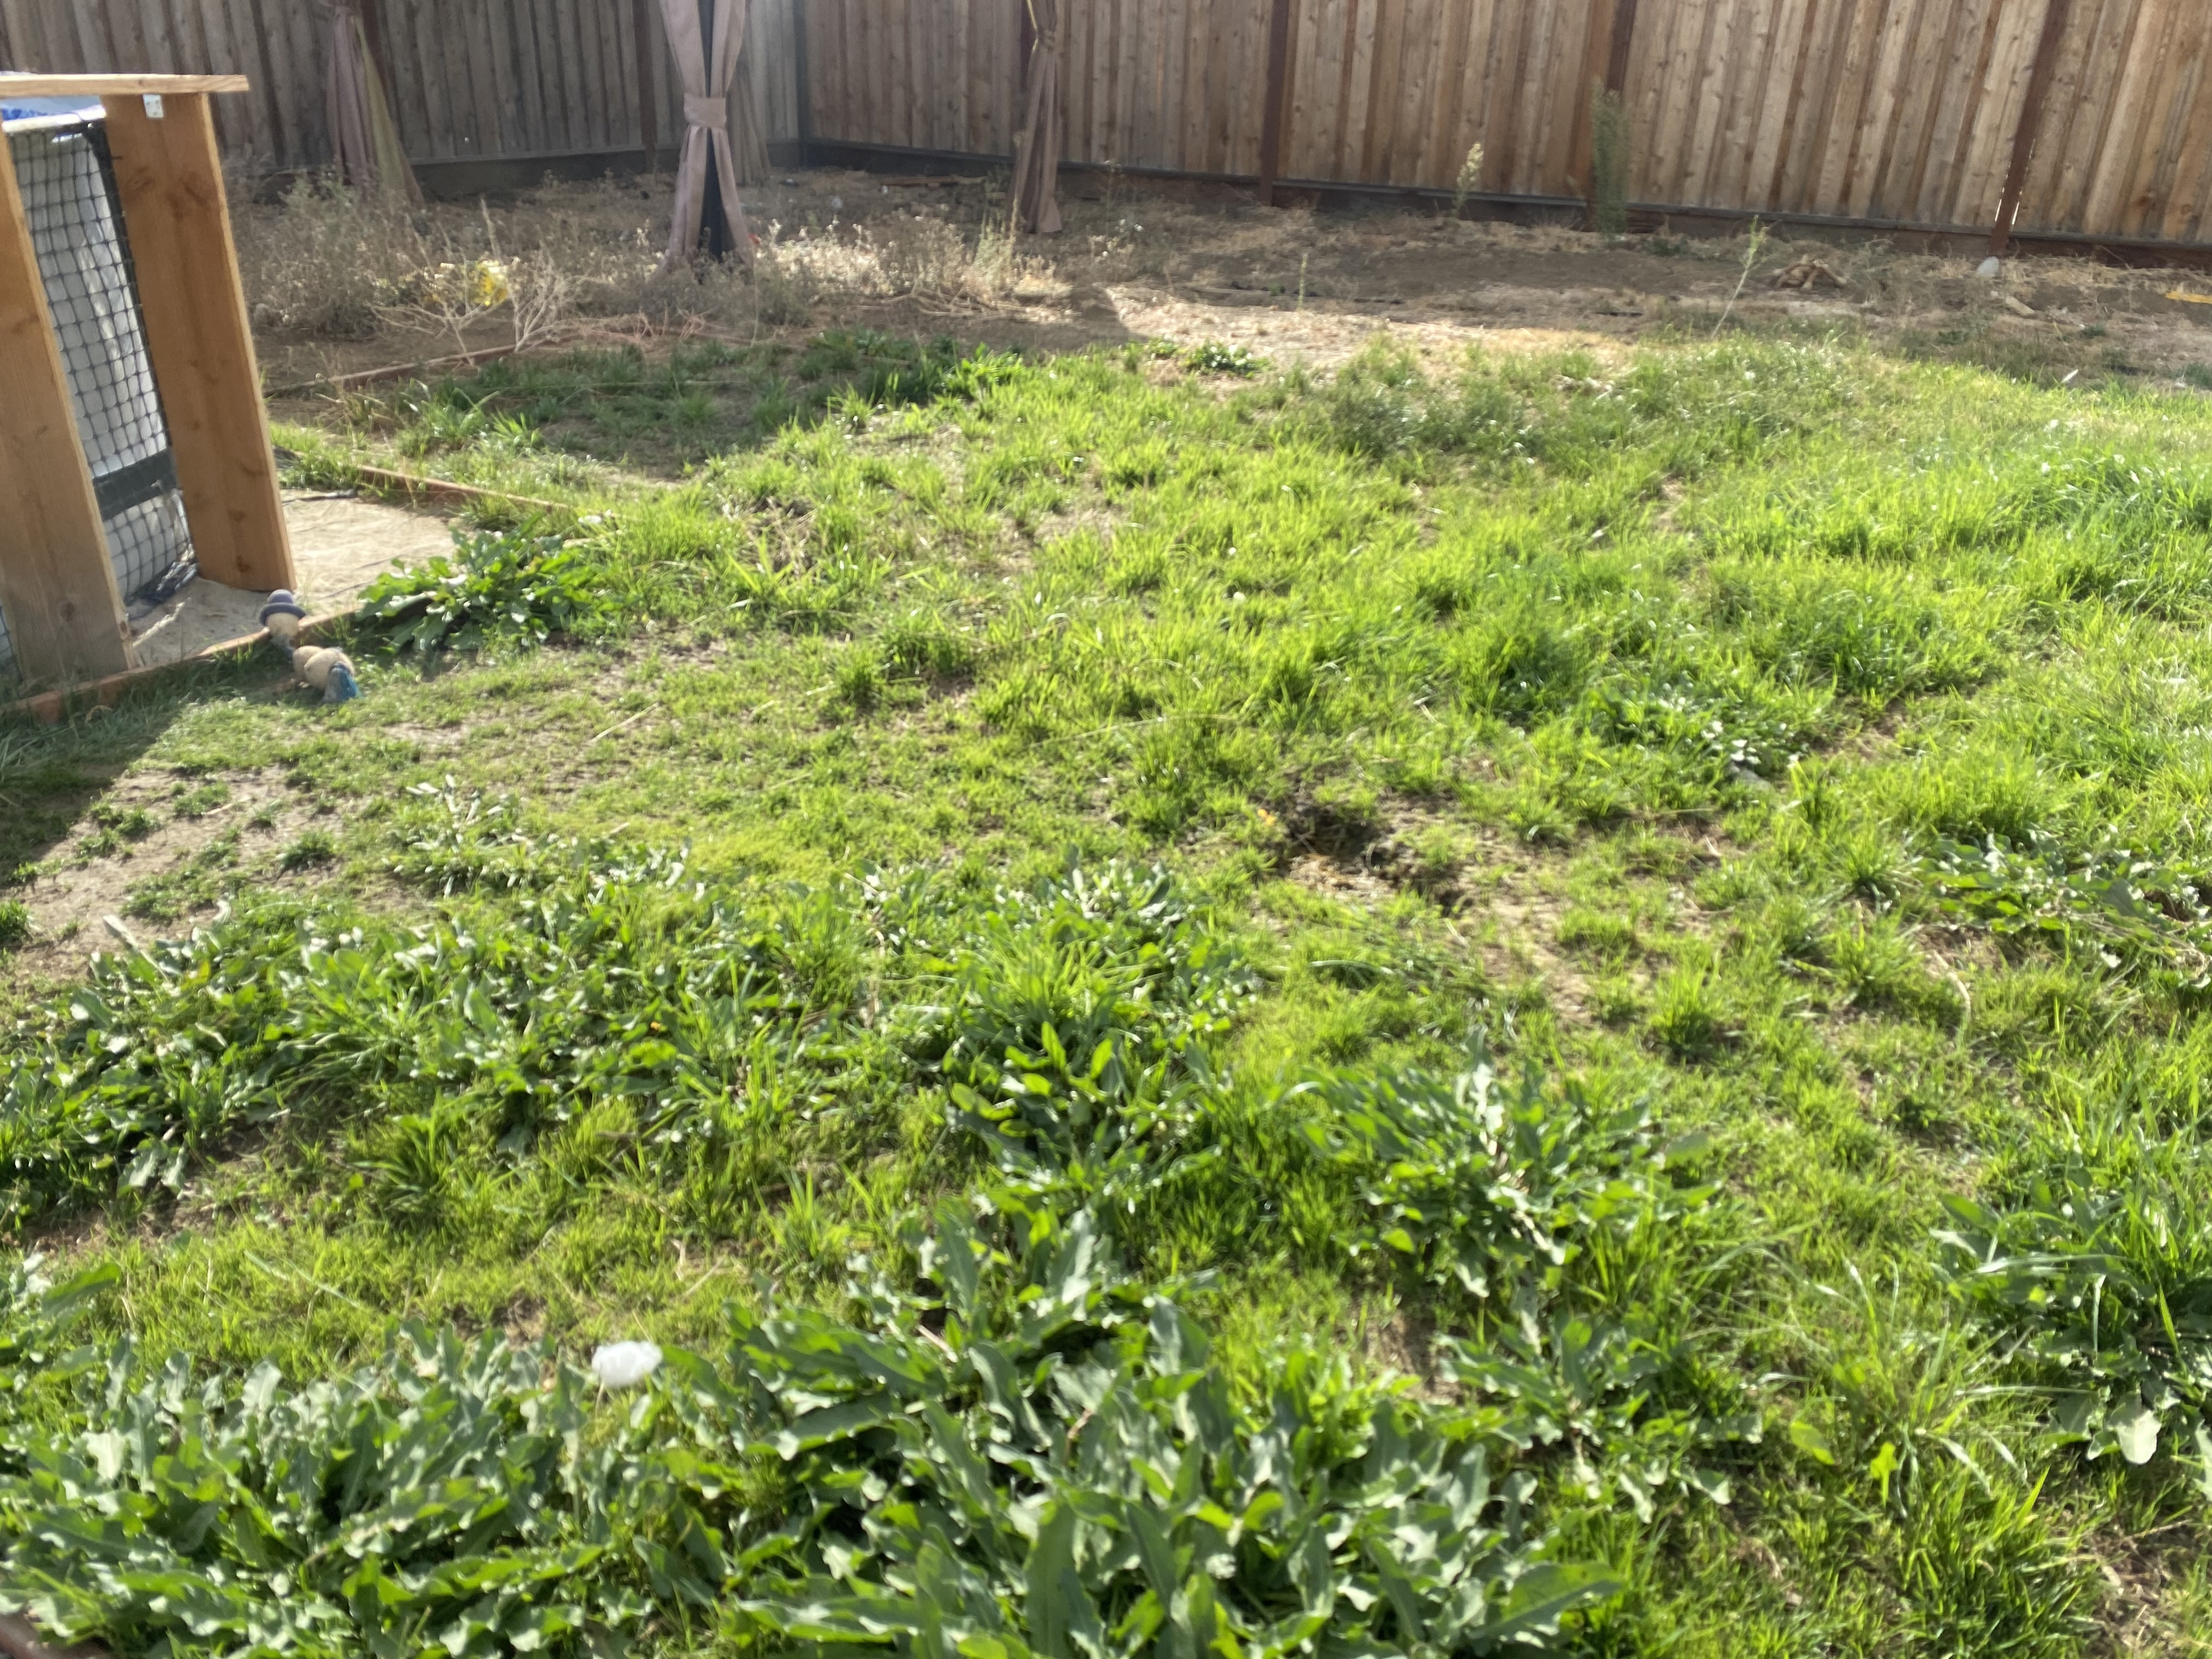weed: (826, 1286, 1386, 1649), (33, 1370, 564, 1591), (1310, 1032, 1677, 1269), (925, 990, 1221, 1225), (64, 932, 345, 1145), (2027, 1244, 2212, 1506), (383, 537, 597, 647)
